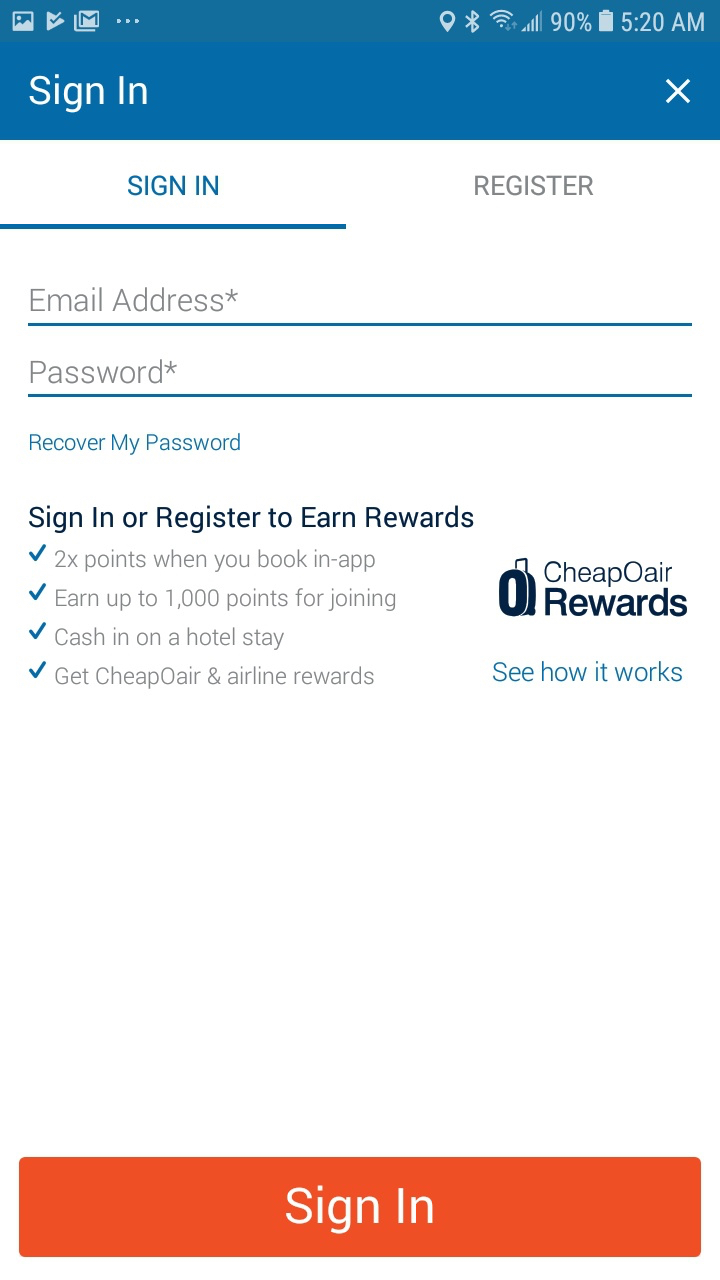EditText: (28, 359, 693, 399), (29, 287, 693, 327)
Icon: (665, 79, 691, 105), (30, 544, 48, 562), (29, 583, 47, 601), (30, 622, 48, 640), (30, 661, 48, 679)
Image: (498, 557, 537, 617)
Text: (29, 505, 474, 534), (543, 561, 688, 618), (56, 588, 396, 612), (56, 665, 375, 690), (55, 549, 376, 573), (56, 626, 286, 651), (31, 287, 239, 313), (29, 74, 148, 114), (30, 434, 241, 456), (493, 661, 683, 683), (475, 175, 594, 197), (129, 175, 220, 197)
TextButton: (19, 1157, 701, 1257)
UpperTaskBar: (1, 1, 720, 43)
